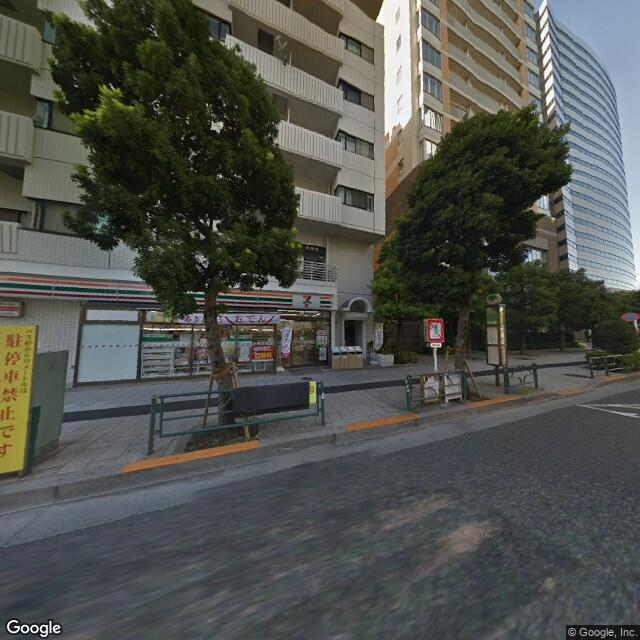7-eleven: (1, 269, 332, 312)
